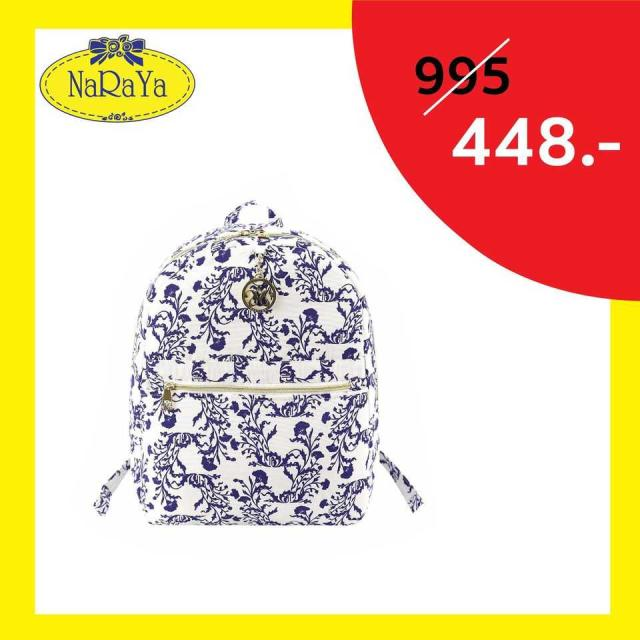Handbag: (125, 198, 380, 526)
